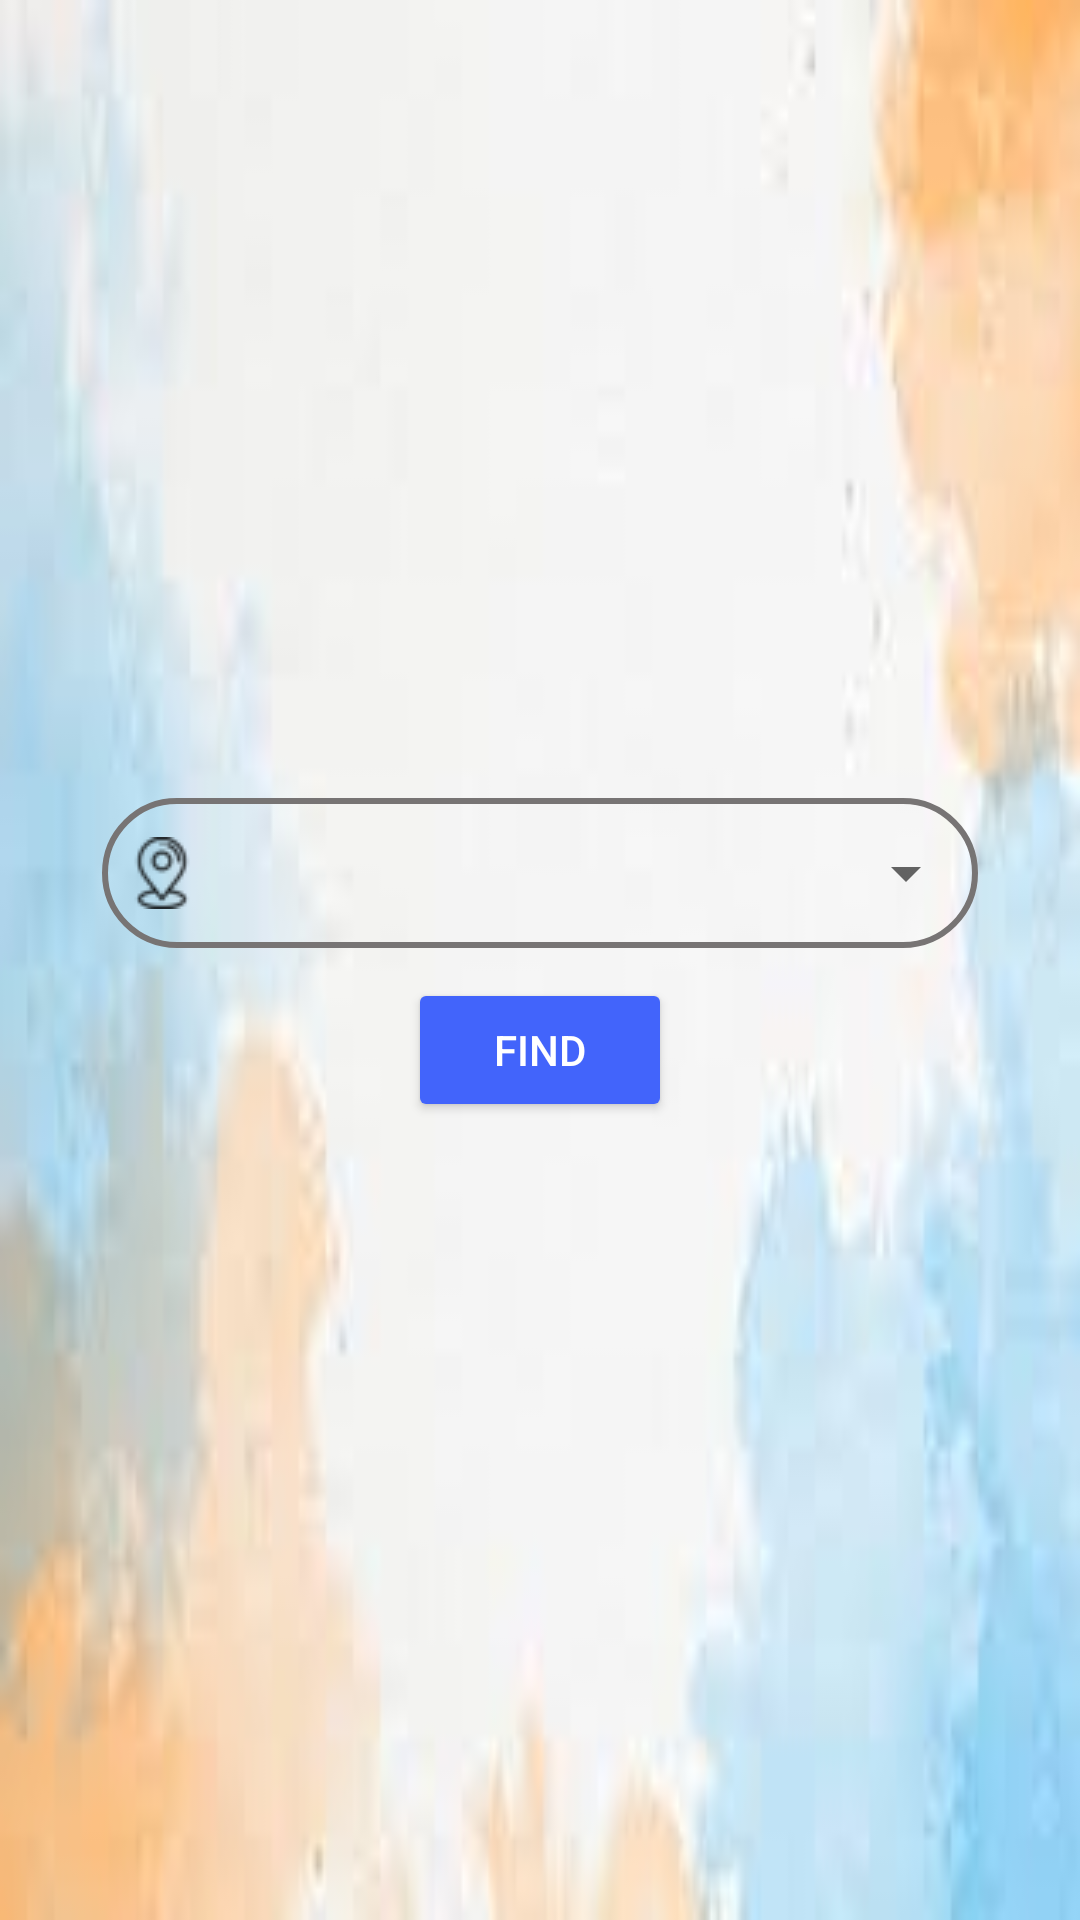

Screen size 1080px x 1920px. Icon name, then its center in pixels as (x,y):
venue: (167,873)
